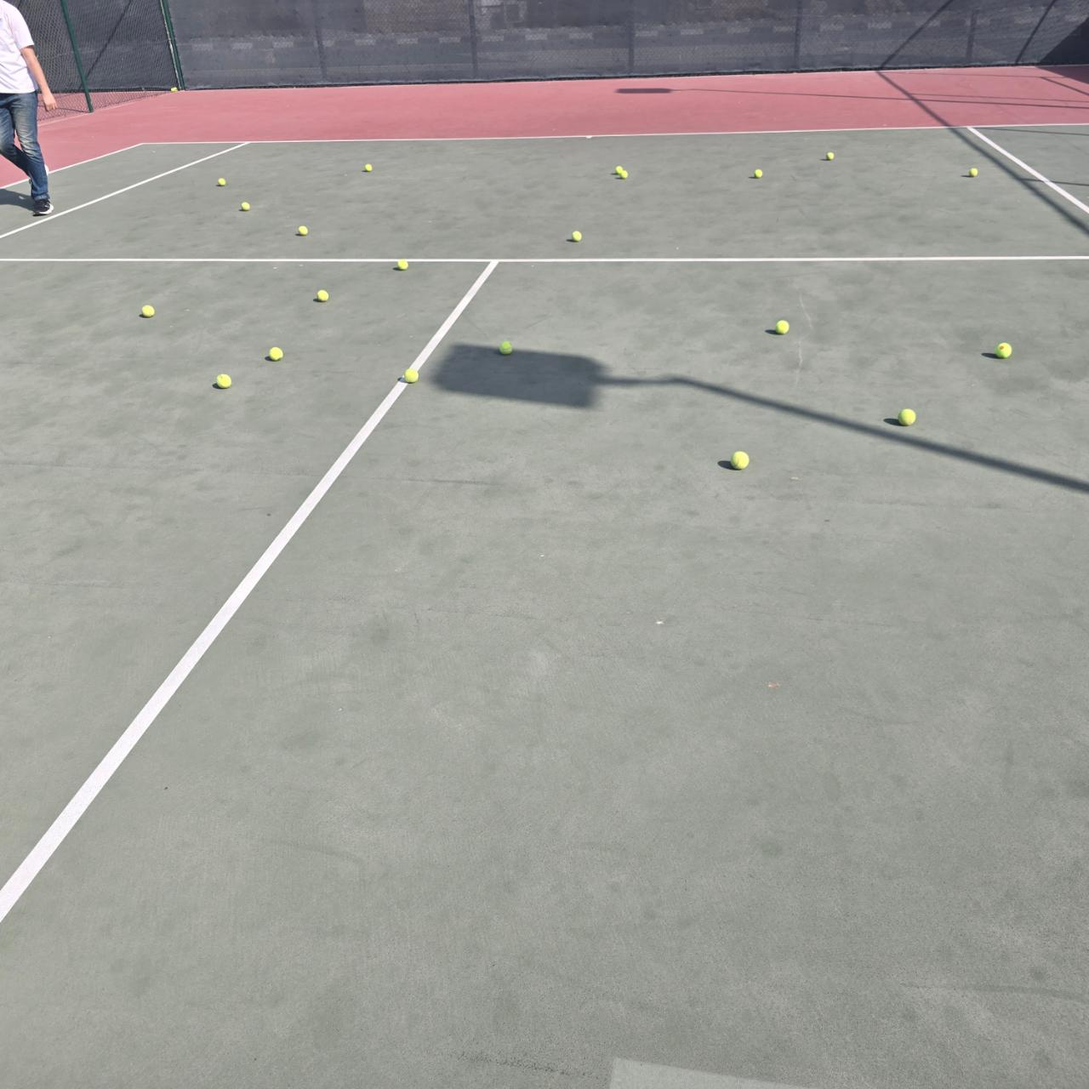tennis-ball: (729, 448, 750, 470), (897, 406, 916, 425), (995, 339, 1012, 358), (214, 371, 231, 389), (402, 366, 419, 383), (266, 345, 282, 361), (139, 303, 155, 317), (498, 338, 512, 354), (776, 320, 790, 334), (316, 288, 329, 302), (397, 259, 409, 271), (571, 231, 582, 242), (298, 226, 308, 236), (969, 168, 979, 178), (754, 168, 763, 179), (241, 202, 250, 211), (620, 170, 628, 179), (615, 166, 623, 174), (218, 178, 226, 186), (364, 163, 372, 171), (827, 152, 834, 161), (171, 87, 177, 92)
